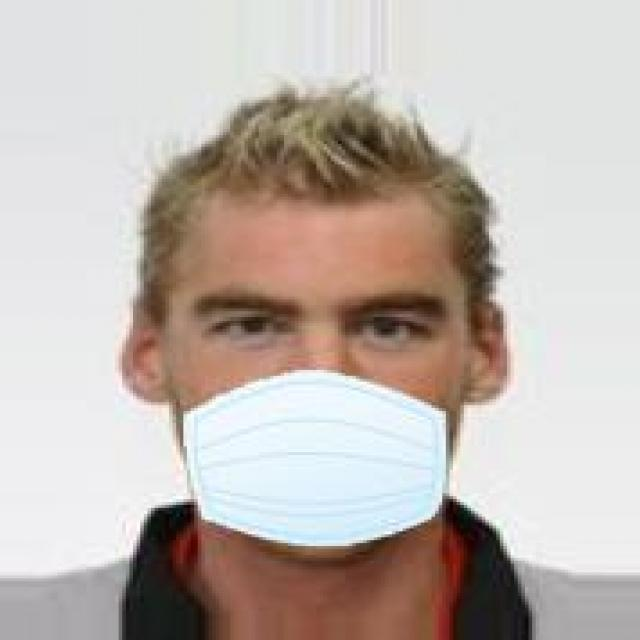mask: (122, 47, 550, 558)
